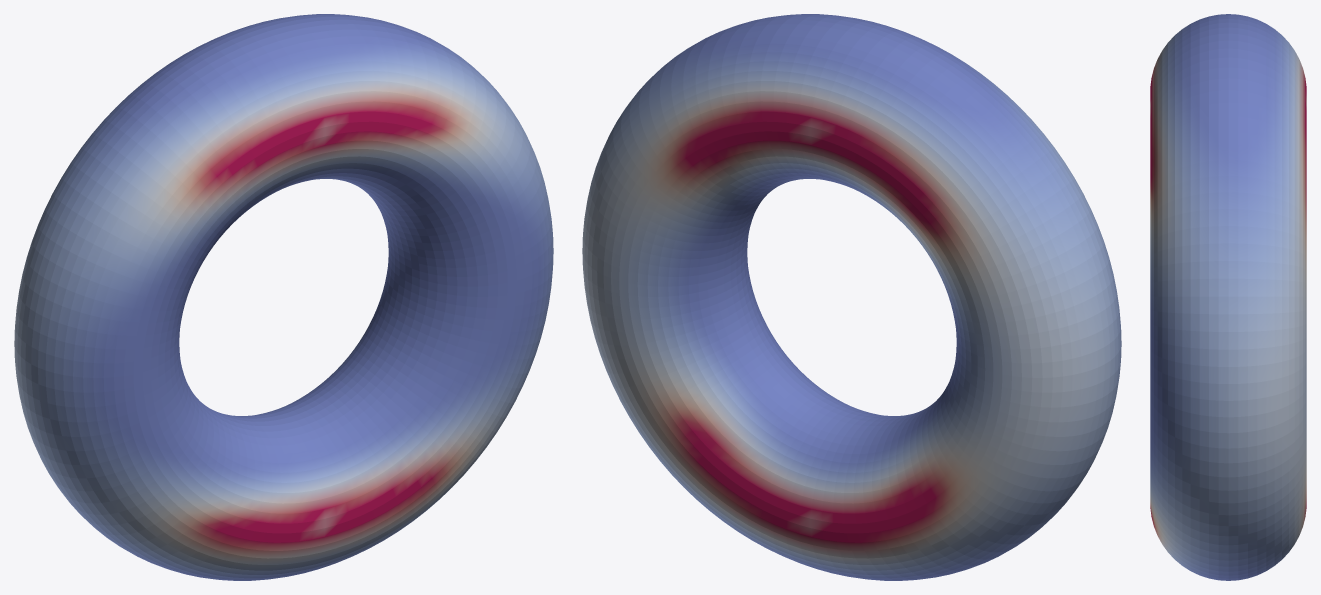
The picture shows the model from 3 angles, left to right: view 1: azimuth 30°, elevation 25°; view 2: azimuth 150°, elevation 25°; view 3: azimuth 270°, elevation 25°; orthographic projection. The views are drawn at different scales.
Parts seen in each view (by area): view 1: world; view 2: world; view 3: world.
Part boxes in pixels (x1,y1,x2,y2): world: (14,14,553,580); world: (582,14,1121,580); world: (1150,14,1306,580).
Size of the model in its own units: 16.89 by 16.89 by 4.66.
